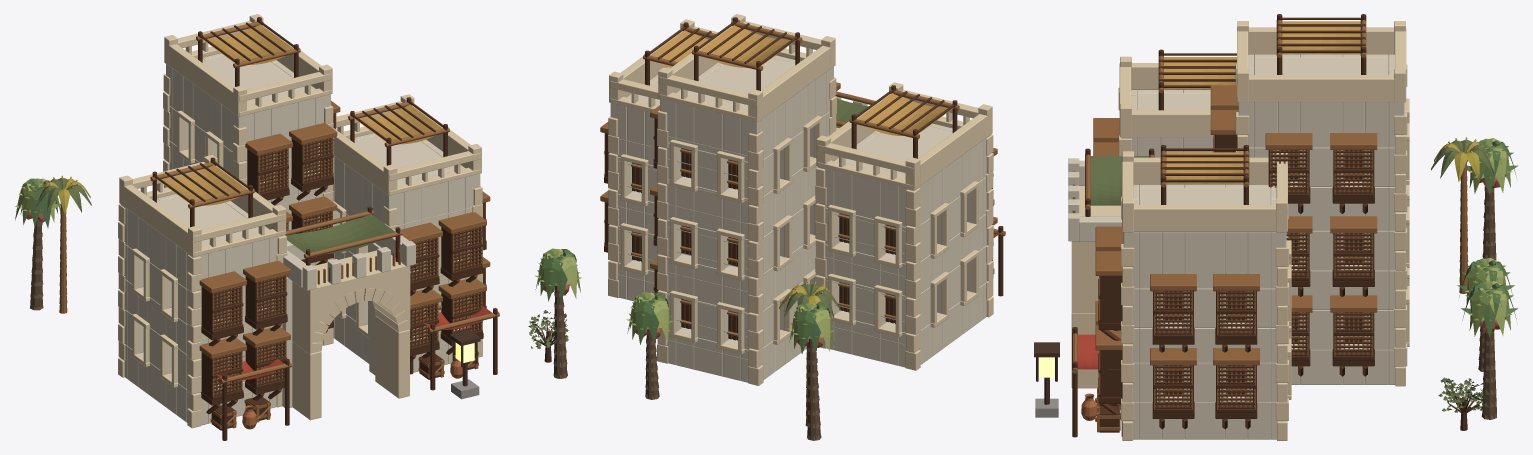
The model's file is jeddah.glb.
The picture shows the model from 3 angles, left to right: view 1: azimuth 30°, elevation 25°; view 2: azimuth 150°, elevation 25°; view 3: azimuth 270°, elevation 25°; orthographic projection. The views are drawn at different scales.
Parts seen in each view (by area): view 1: jeddah_B03R2_jeddah_Trim, jeddah_B03R2_jeddah_Coral, jeddah_B03R2_jeddah_Wood, jeddah_B03R2_jeddah_WoodLight, jeddah_B03R2_jeddah_ClothGold, jeddah_B03R2_jeddah_LeafOlive, jeddah_B03R2_jeddah_ClothRed, jeddah_BiomeV3_Branch, jeddah_WarmMini_wooddark, jeddah_B03R2_jeddah_Pot; view 2: jeddah_B03R2_jeddah_Coral, jeddah_B03R2_jeddah_Trim, jeddah_B03R2_jeddah_Wood, jeddah_B03R2_jeddah_ClothGold, jeddah_B03R2_jeddah_WoodLight, jeddah_BiomeV3_Branch, jeddah_BiomeV3_Foliage_palm0, jeddah_BiomeV3_Foliage_palm2, jeddah_B03R2_jeddah_Plaster, jeddah_B03R2_jeddah_LeafOlive, jeddah_BiomeV3_Static_Bark, jeddah_BiomeV3_Foliage_palm3 (+1 smaller); view 3: jeddah_B03R2_jeddah_Coral, jeddah_B03R2_jeddah_Trim, jeddah_B03R2_jeddah_Wood, jeddah_B03R2_jeddah_WoodLight, jeddah_B03R2_jeddah_ClothGold, jeddah_B03R2_jeddah_LeafOlive, jeddah_BiomeV3_Foliage_palm1, jeddah_BiomeV3_Branch, jeddah_BiomeV3_Foliage_palm0, jeddah_BiomeV3_Foliage_palm2, jeddah_BiomeV3_Static_Bark, jeddah_WarmMini_wooddark (+3 smaller).
Part boxes in pixels (x1=…): jeddah_B03R2_jeddah_Trim: x1=118, y1=14, x2=482, y2=428; jeddah_B03R2_jeddah_Coral: x1=121, y1=53, x2=480, y2=425; jeddah_B03R2_jeddah_Wood: x1=152, y1=17, x2=497, y2=440; jeddah_B03R2_jeddah_WoodLight: x1=59, y1=20, x2=499, y2=430; jeddah_B03R2_jeddah_ClothGold: x1=156, y1=24, x2=442, y2=205; jeddah_B03R2_jeddah_LeafOlive: x1=36, y1=178, x2=394, y2=254; jeddah_B03R2_jeddah_ClothRed: x1=214, y1=304, x2=491, y2=380; jeddah_BiomeV3_Branch: x1=30, y1=220, x2=42, y2=308; jeddah_WarmMini_wooddark: x1=449, y1=329, x2=480, y2=386; jeddah_B03R2_jeddah_Pot: x1=242, y1=355, x2=462, y2=429; jeddah_B03R2_jeddah_Coral: x1=610, y1=55, x2=990, y2=382; jeddah_B03R2_jeddah_Trim: x1=608, y1=14, x2=993, y2=385; jeddah_B03R2_jeddah_Wood: x1=534, y1=17, x2=1003, y2=362; jeddah_B03R2_jeddah_ClothGold: x1=650, y1=25, x2=953, y2=135; jeddah_B03R2_jeddah_WoodLight: x1=600, y1=21, x2=1005, y2=426; jeddah_BiomeV3_Branch: x1=554, y1=285, x2=820, y2=440; jeddah_BiomeV3_Foliage_palm0: x1=537, y1=250, x2=833, y2=353; jeddah_BiomeV3_Foliage_palm2: x1=534, y1=249, x2=830, y2=351; jeddah_B03R2_jeddah_Plaster: x1=618, y1=136, x2=905, y2=360; jeddah_B03R2_jeddah_LeafOlive: x1=528, y1=98, x2=868, y2=348; jeddah_BiomeV3_Static_Bark: x1=553, y1=291, x2=821, y2=440; jeddah_BiomeV3_Foliage_palm3: x1=556, y1=249, x2=829, y2=352; jeddah_B03R2_jeddah_Coral: x1=1068, y1=54, x2=1404, y2=439; jeddah_B03R2_jeddah_Trim: x1=1071, y1=21, x2=1409, y2=440; jeddah_B03R2_jeddah_Wood: x1=1072, y1=14, x2=1481, y2=437; jeddah_B03R2_jeddah_WoodLight: x1=1072, y1=20, x2=1468, y2=432; jeddah_B03R2_jeddah_ClothGold: x1=1164, y1=21, x2=1360, y2=183; jeddah_B03R2_jeddah_LeafOlive: x1=1090, y1=140, x2=1493, y2=413; jeddah_BiomeV3_Foliage_palm1: x1=1468, y1=138, x2=1512, y2=336; jeddah_BiomeV3_Branch: x1=1479, y1=186, x2=1496, y2=419; jeddah_BiomeV3_Foliage_palm0: x1=1467, y1=140, x2=1518, y2=337; jeddah_BiomeV3_Foliage_palm2: x1=1465, y1=138, x2=1506, y2=335; jeddah_BiomeV3_Static_Bark: x1=1478, y1=186, x2=1496, y2=419; jeddah_WarmMini_wooddark: x1=1034, y1=342, x2=1059, y2=404.
Size of the model in its own units: 3.78 by 3.24 by 4.33.
